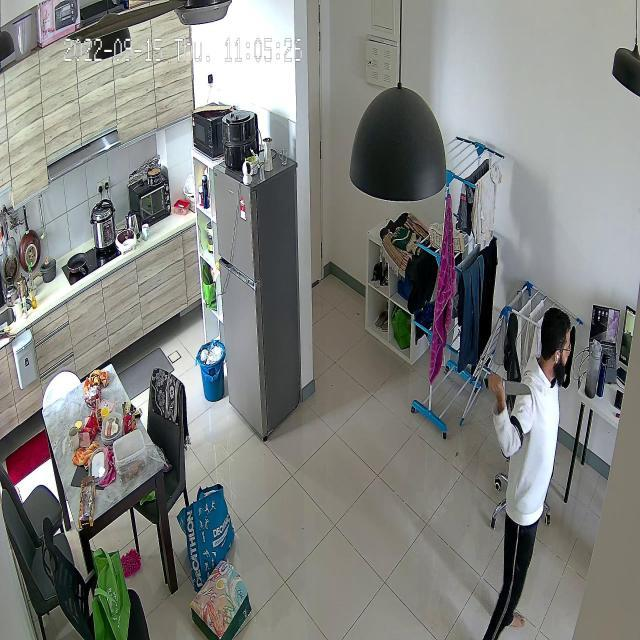Knife: (482, 362, 538, 408)
